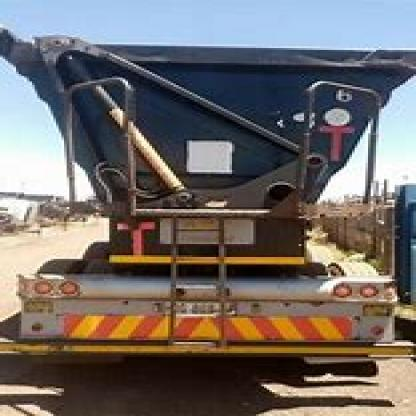dump_truck: (0, 14, 413, 373)
